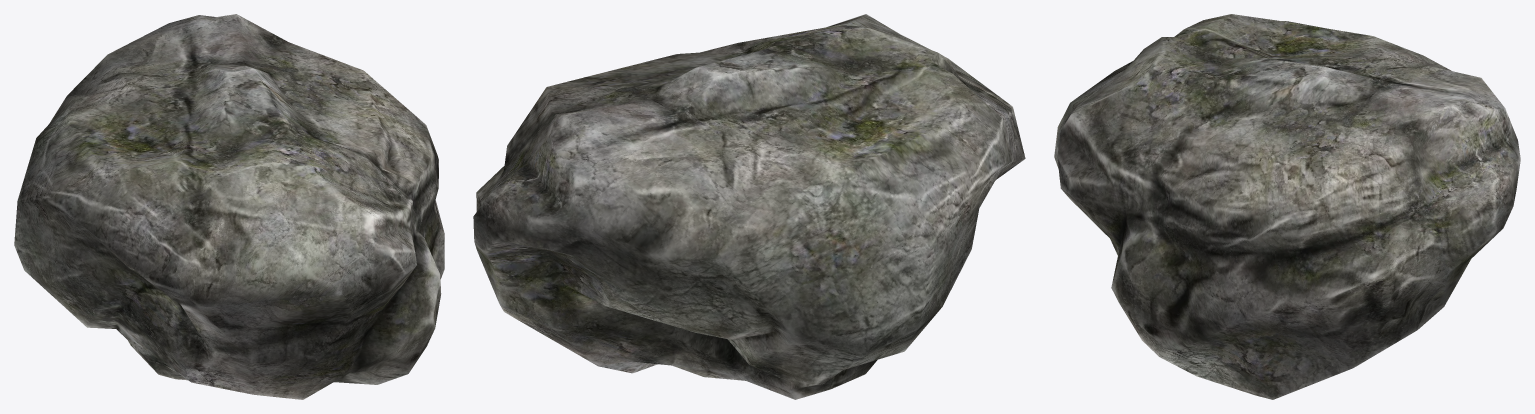
File: Rock - Medium C-CtvURuT_.glb
3 renders of one model, left to right at view 1: azimuth 30°, elevation 25°; view 2: azimuth 150°, elevation 25°; view 3: azimuth 270°, elevation 25°, orthographic. The views are drawn at different scales.
Parts seen in each view (by area): view 1: MRL_RockMediumC; view 2: MRL_RockMediumC; view 3: MRL_RockMediumC.
Part boxes in pixels (<box>): MRL_RockMediumC: <box>14,14,444,399</box>; MRL_RockMediumC: <box>473,14,1025,399</box>; MRL_RockMediumC: <box>1054,14,1520,399</box>.
Size of the model in its own units: 7.65 by 5.51 by 8.24.
1 material, 1 textured.
